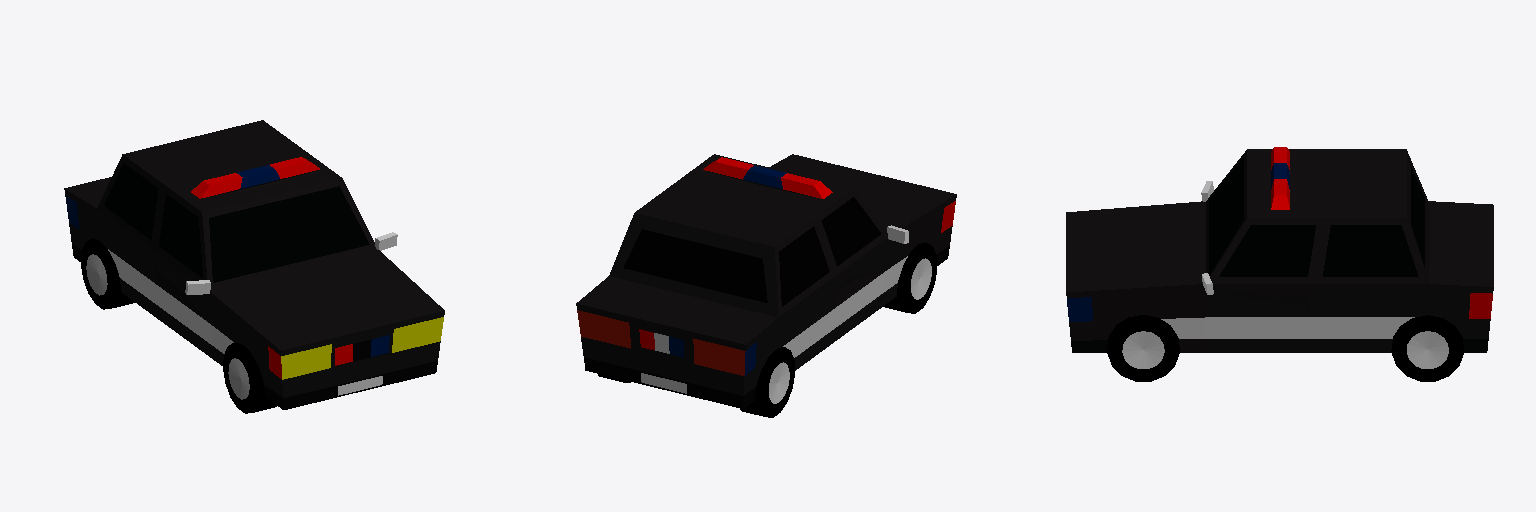
Rendered from police_car.obj.
The picture shows the model from 3 angles: view 1: azimuth 30°, elevation 25°; view 2: azimuth 150°, elevation 25°; view 3: azimuth 270°, elevation 25°; orthographic projection.
Parts seen in each view (by area): view 1: Body3, WheelRL4, WheelRL2; view 2: Body3, WheelRL4, WheelRL2; view 3: Body3, WheelRL3, WheelRL1.
Boxes of the visible parts, box(x1,y1,x2,y2) form: Body3: box(64, 120, 444, 409); WheelRL4: box(223, 342, 276, 413); WheelRL2: box(81, 238, 134, 309); Body3: box(576, 154, 956, 408); WheelRL4: box(883, 242, 936, 313); WheelRL2: box(740, 347, 794, 417); Body3: box(1066, 147, 1493, 352); WheelRL3: box(1107, 315, 1179, 381); WheelRL1: box(1391, 315, 1463, 381).
Size of the model in its own units: 1.33 by 1.03 by 2.35.